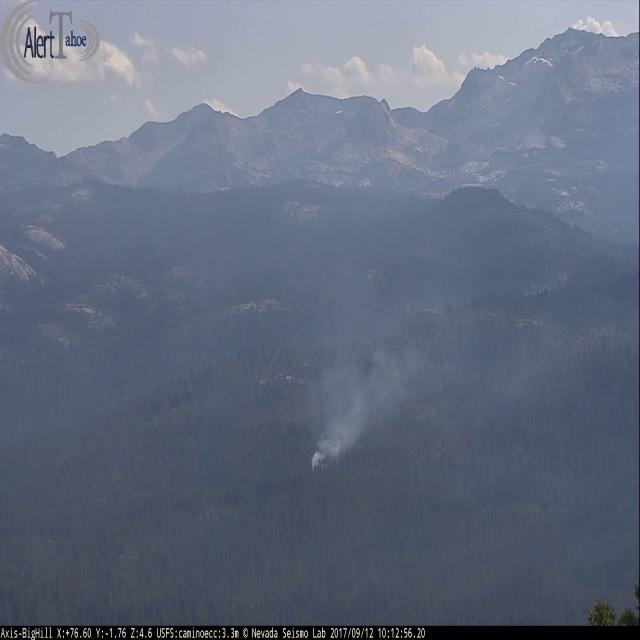smoke: (211, 184, 578, 473)
